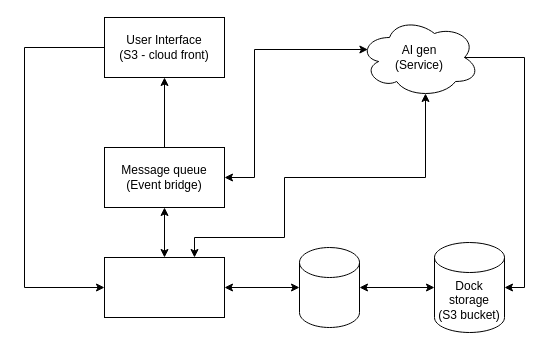
Some shapes in this 550 by 350 pixel diagram are drawn without their labels. Here are the shapes that lost their labels. From the top down, the centre of each, then its label:
pixel 164 287: BackEnd (lambda fce)
pixel 329 287: PostgreSQL
